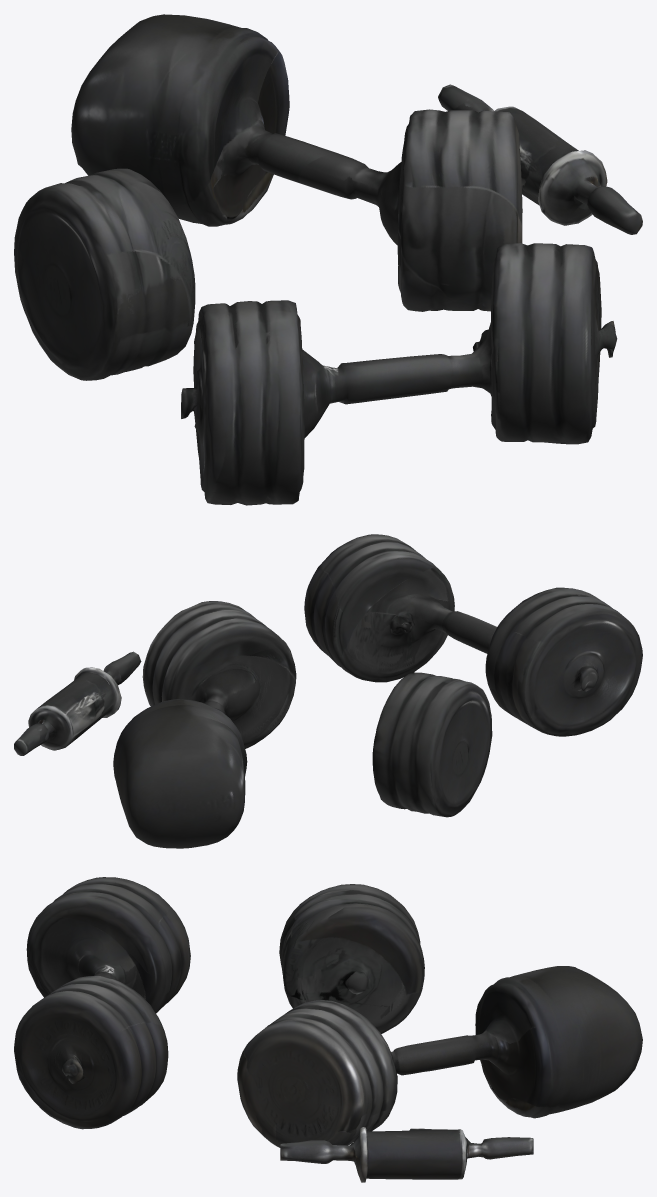
File: Dumbbells_on_Mat_0601193646_texture.glb
The picture shows the model from 3 angles, top to bottom: view 1: azimuth 30°, elevation 25°; view 2: azimuth 150°, elevation 25°; view 3: azimuth 270°, elevation 25°; orthographic projection. The views are drawn at different scales.
Bounding box in the file's own units: 1.6 × 0.4634 × 1.99.
Materials: 1 (1 with a texture image).
